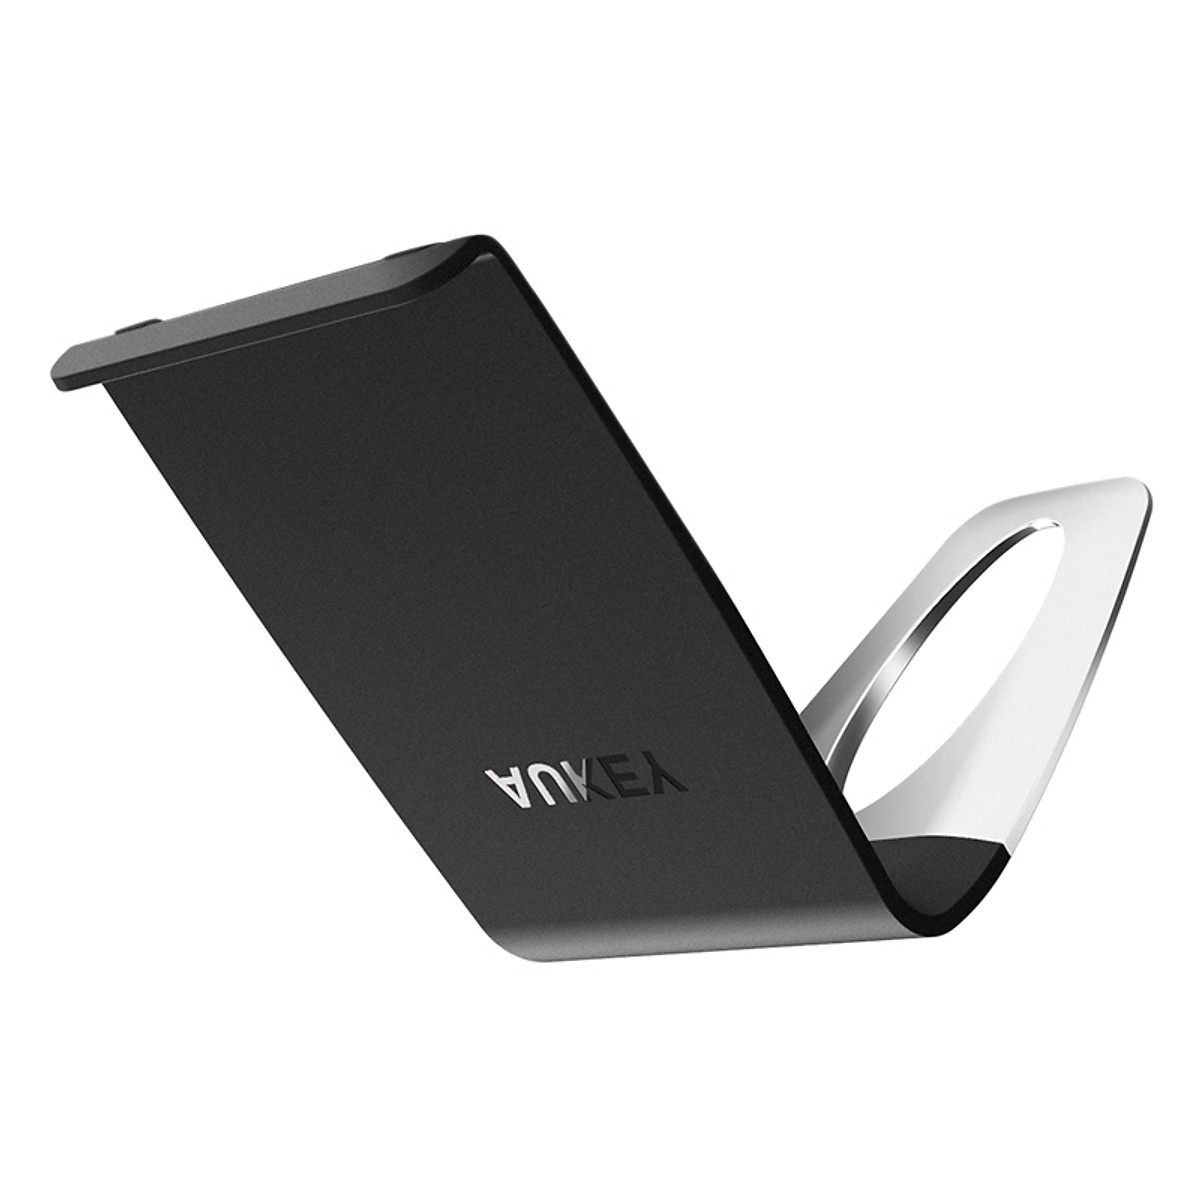Aukey: (462, 640, 804, 865)
